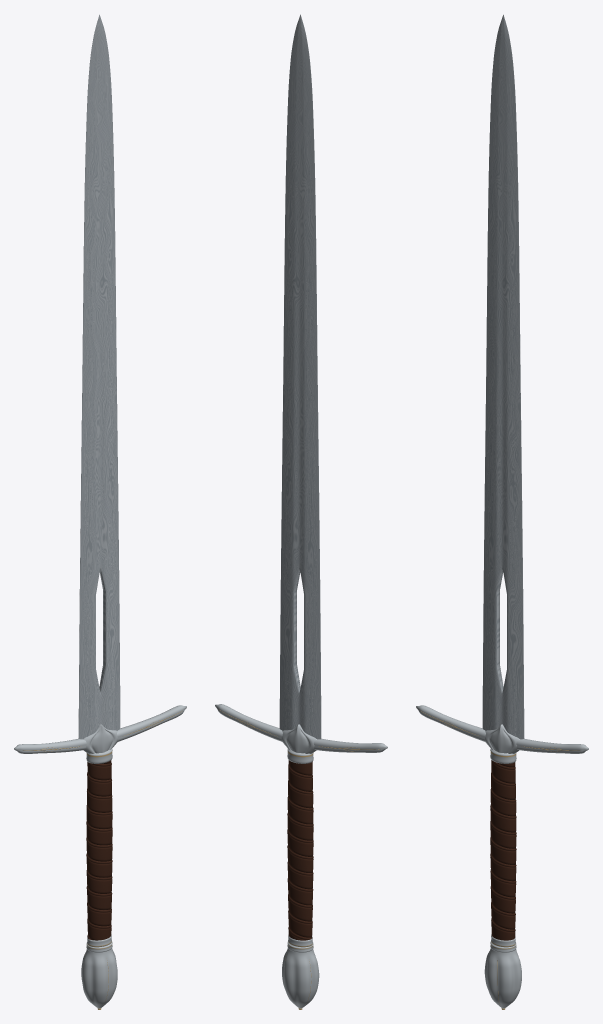
The model's file is branch-sword-atelier-v2.glb.
The picture shows the model from 3 angles, left to right: view 1: azimuth 30°, elevation 25°; view 2: azimuth 150°, elevation 25°; view 3: azimuth 330°, elevation 25°; orthographic projection.
Parts seen in each view (by area): view 1: Blade, Grip, Guard, Pommel; view 2: Blade, Grip, Guard, Pommel; view 3: Blade, Grip, Guard, Pommel.
Part boxes in pixels (bbox=[...]): Blade: bbox=[78, 14, 120, 739]; Grip: bbox=[86, 760, 112, 947]; Guard: bbox=[14, 705, 186, 763]; Pommel: bbox=[81, 941, 117, 1009]; Blade: bbox=[279, 14, 321, 739]; Grip: bbox=[287, 760, 313, 947]; Guard: bbox=[215, 704, 387, 763]; Pommel: bbox=[282, 941, 319, 1009]; Blade: bbox=[482, 14, 524, 739]; Grip: bbox=[490, 760, 516, 947]; Guard: bbox=[416, 705, 588, 763]; Pommel: bbox=[484, 941, 521, 1009].
Size of the model in its own units: 0.23 by 1.27 by 0.0388.
5 materials, 2 textured.
